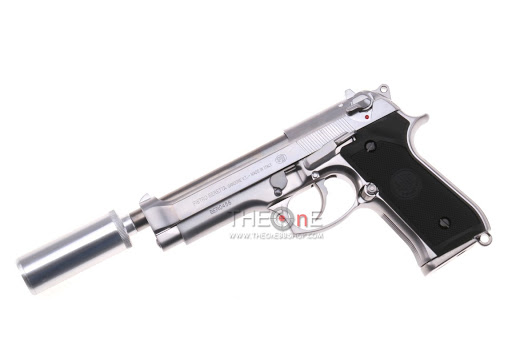gun: (6, 80, 501, 311)
